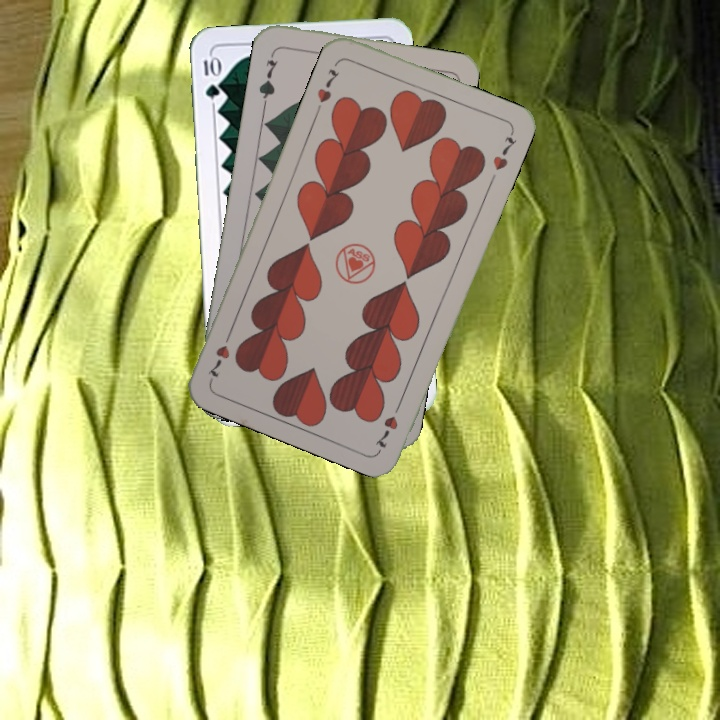G10: (199, 52, 222, 101)
G7: (254, 47, 280, 106)
H7: (371, 396, 405, 453), (313, 65, 343, 106)
